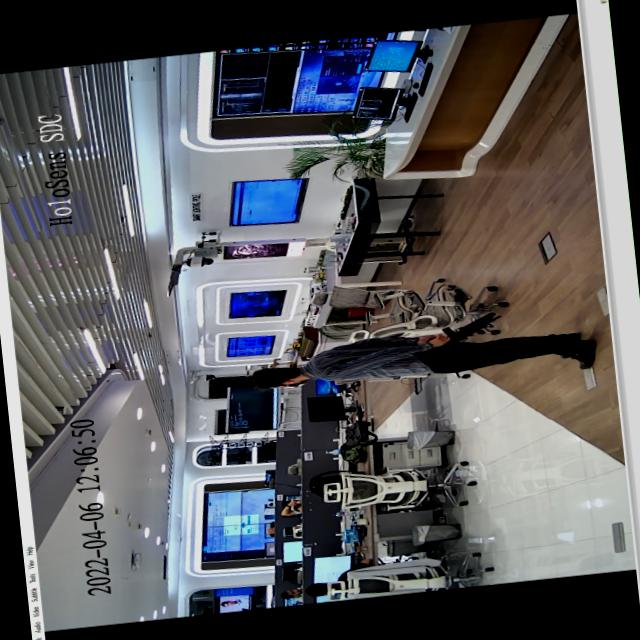long weapon: (419, 303, 517, 353)
